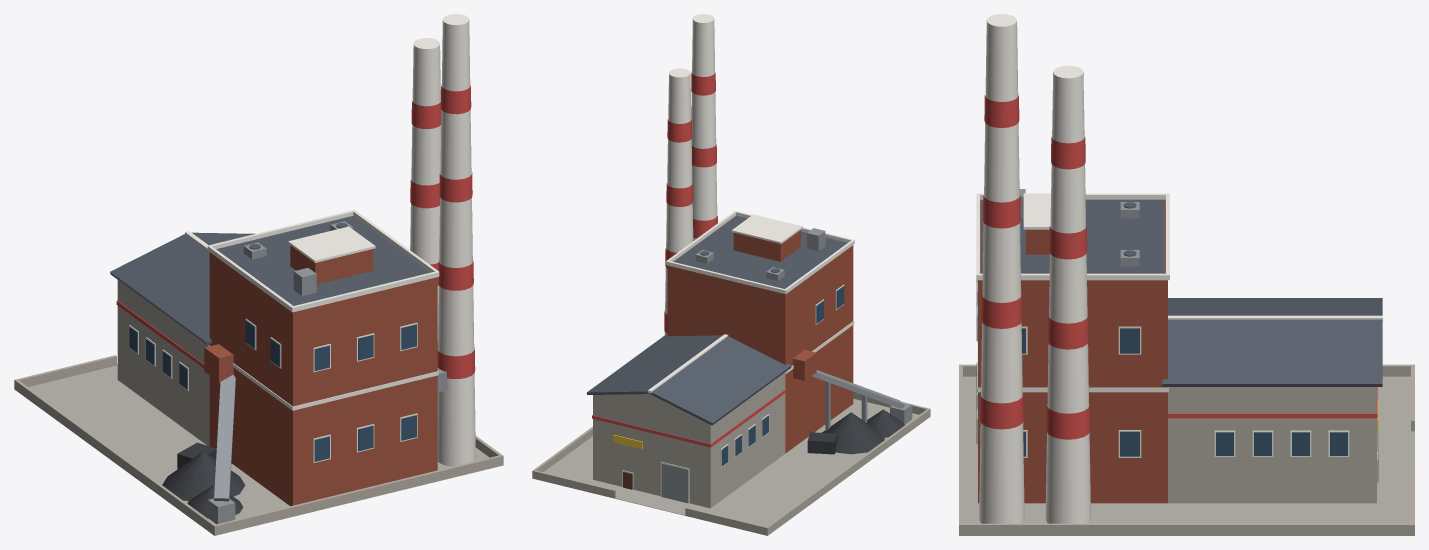
The model's file is coal.glb.
The picture shows the model from 3 angles, left to right: view 1: azimuth 30°, elevation 25°; view 2: azimuth 150°, elevation 25°; view 3: azimuth 270°, elevation 25°; orthographic projection. The views are drawn at different scales.
Parts seen in each view (by area): view 1: boiler_house, chimney (×2), roof (×2), yard, turbine_hall, yard_wall (×3), stack_band (×6), parapet (×4), conveyor, coal_heap, penthouse_roof, penthouse (+4 smaller); view 2: boiler_house, roof (×3), turbine_hall, yard, chimney (×2), yard_wall (×4), coal_heap (×3), stack_band (×4), penthouse, penthouse_roof, garage_door, accent_stripe (+4 smaller); view 3: chimney (×2), roof (×3), boiler_house, turbine_hall, yard, stack_band (×8), yard_wall (×3), parapet (×2), accent_stripe, ridge, penthouse_roof, string_course (+1 smaller).
Part boxes in pixels (<box>): boiler_house: <box>209,252,437,506</box>; chimney (×2): <box>410,14,475,466</box>; roof (×2): <box>110,216,430,345</box>; yard: <box>14,363,503,535</box>; turbine_hall: <box>117,280,209,446</box>; yard_wall (×3): <box>14,355,502,535</box>; stack_band (×6): <box>410,85,475,378</box>; parapet (×4): <box>207,210,439,312</box>; conveyor: <box>214,374,235,501</box>; coal_heap: <box>162,451,245,501</box>; penthouse_roof: <box>288,226,375,262</box>; penthouse: <box>290,245,373,284</box>; boiler_house: <box>667,245,853,453</box>; roof (×3): <box>586,215,847,425</box>; turbine_hall: <box>593,372,785,508</box>; yard: <box>532,398,930,535</box>; chimney (×2): <box>664,14,717,334</box>; yard_wall (×4): <box>532,408,930,535</box>; coal_heap (×3): <box>807,409,904,454</box>; stack_band (×4): <box>666,71,716,206</box>; penthouse: <box>733,230,800,261</box>; penthouse_roof: <box>731,214,802,243</box>; garage_door: <box>661,463,688,503</box>; accent_stripe: <box>592,389,786,447</box>; chimney (×2): <box>979,14,1090,523</box>; roof (×3): <box>981,199,1382,386</box>; boiler_house: <box>978,200,1167,503</box>; turbine_hall: <box>1168,387,1376,503</box>; yard: <box>959,376,1414,535</box>; stack_band (×8): <box>980,95,1090,439</box>; yard_wall (×3): <box>959,364,1414,535</box>; parapet (×2): <box>977,193,1168,280</box>; accent_stripe: <box>1167,387,1377,418</box>; ridge: <box>1168,315,1382,320</box>; penthouse_roof: <box>1023,193,1050,229</box>; string_course: <box>977,343,1168,392</box>.
Bounding box in the file's own units: 40 × 58.06 × 48.
